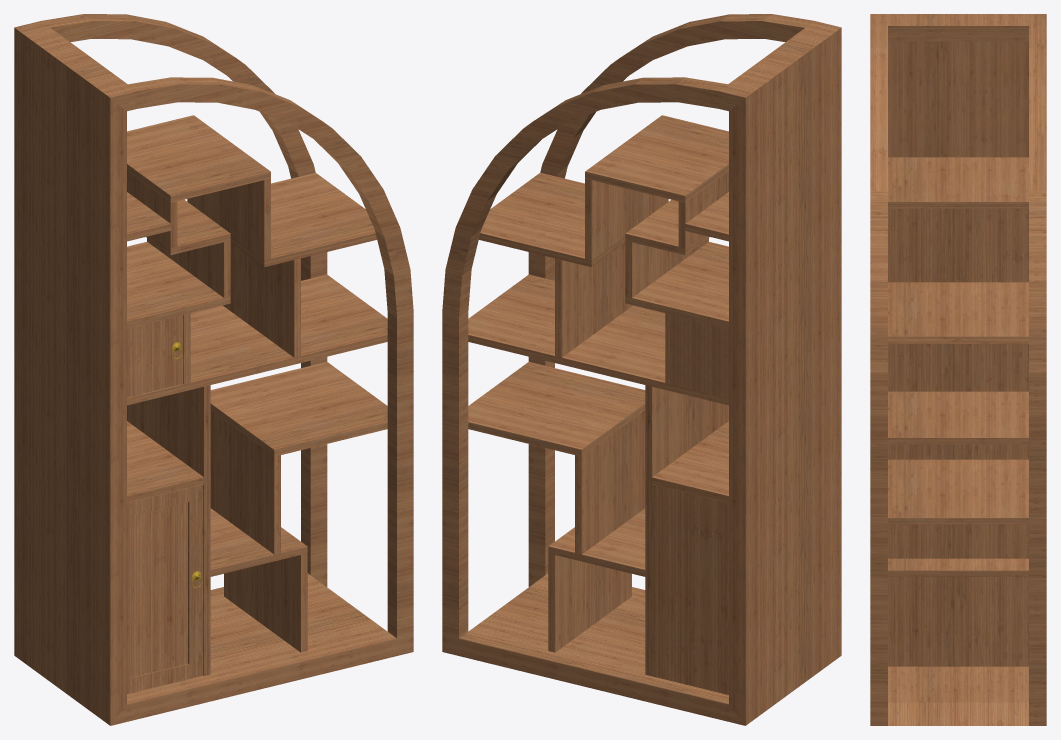
The model's file is store7.glb.
3 views of the same model, side by side, from view 1: azimuth 30°, elevation 25°; view 2: azimuth 150°, elevation 25°; view 3: azimuth 270°, elevation 25° (orthographic). The views are drawn at different scales.
Visible parts, largest first — view 1: Shelf_Frame, Shelf; view 2: Shelf_Frame, Shelf; view 3: Shelf, Shelf_Frame.
Boxes of the visible parts, box(x1,y1,x2,y2) form: Shelf_Frame: box(14, 14, 413, 725); Shelf: box(127, 115, 387, 694); Shelf_Frame: box(442, 14, 841, 725); Shelf: box(468, 115, 728, 694); Shelf: box(888, 157, 1028, 666); Shelf_Frame: box(870, 14, 1046, 725).
Size of the model in its own units: 0.91 by 1.8 by 0.5.
Materials: 2 (1 with a texture image).
